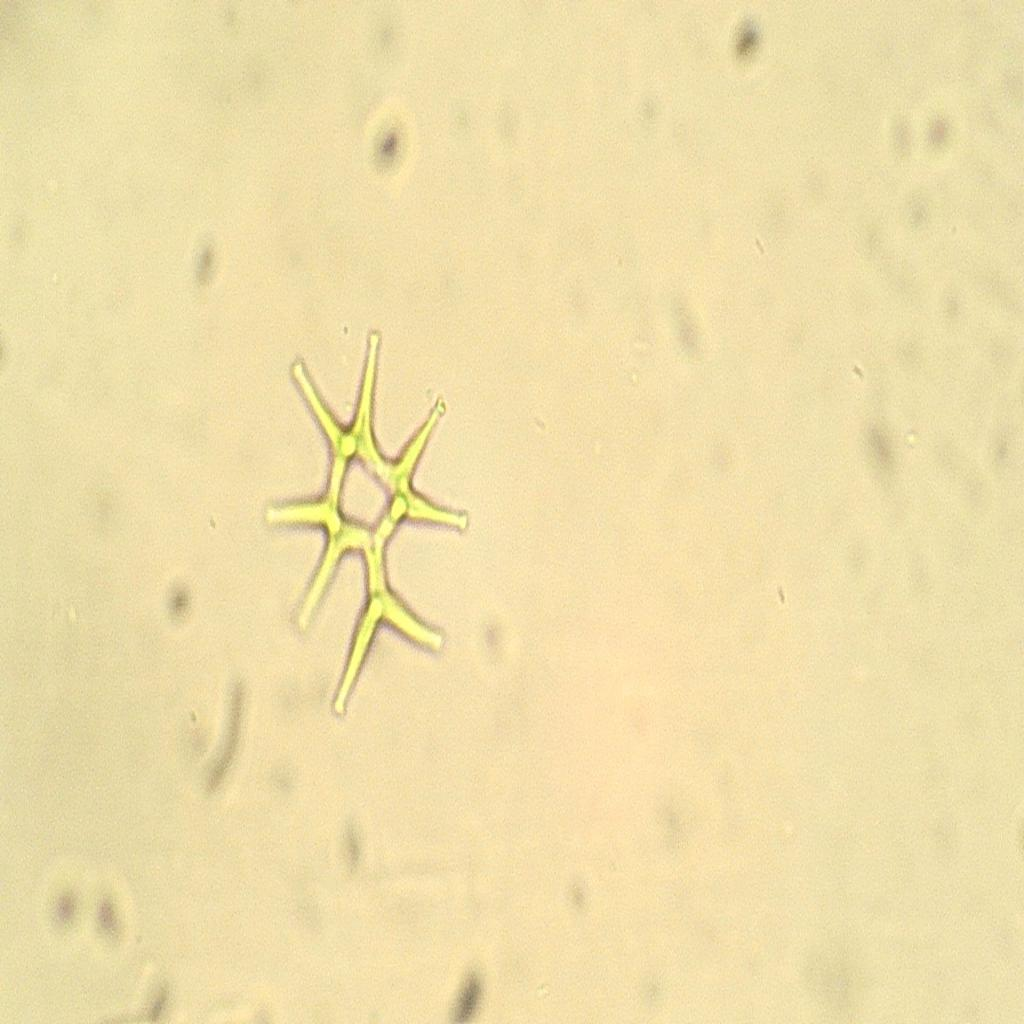Pediastrum_75FI: (255, 311, 472, 743)
